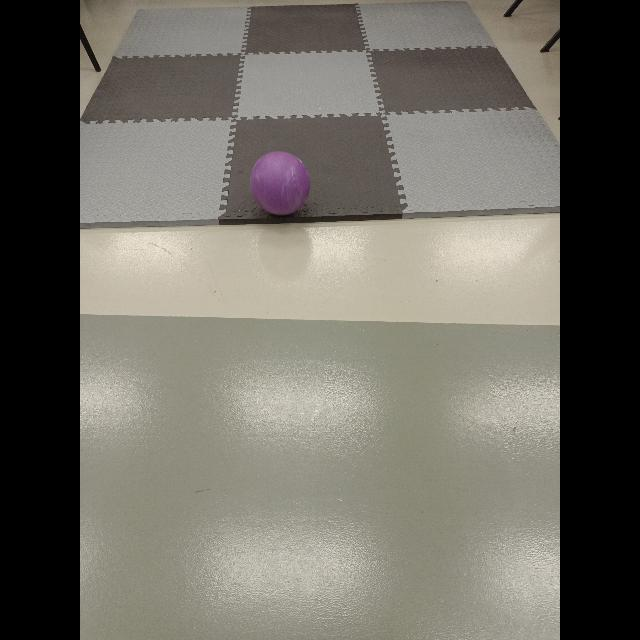P: (248, 147, 312, 221)
